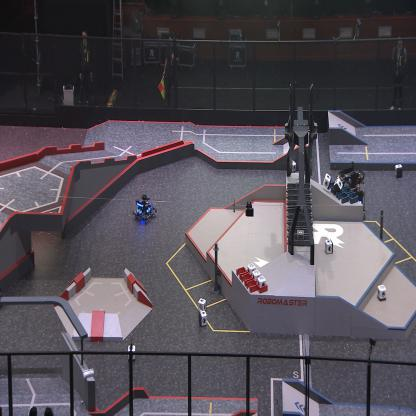car: (336, 166, 366, 222), (133, 194, 157, 223)
